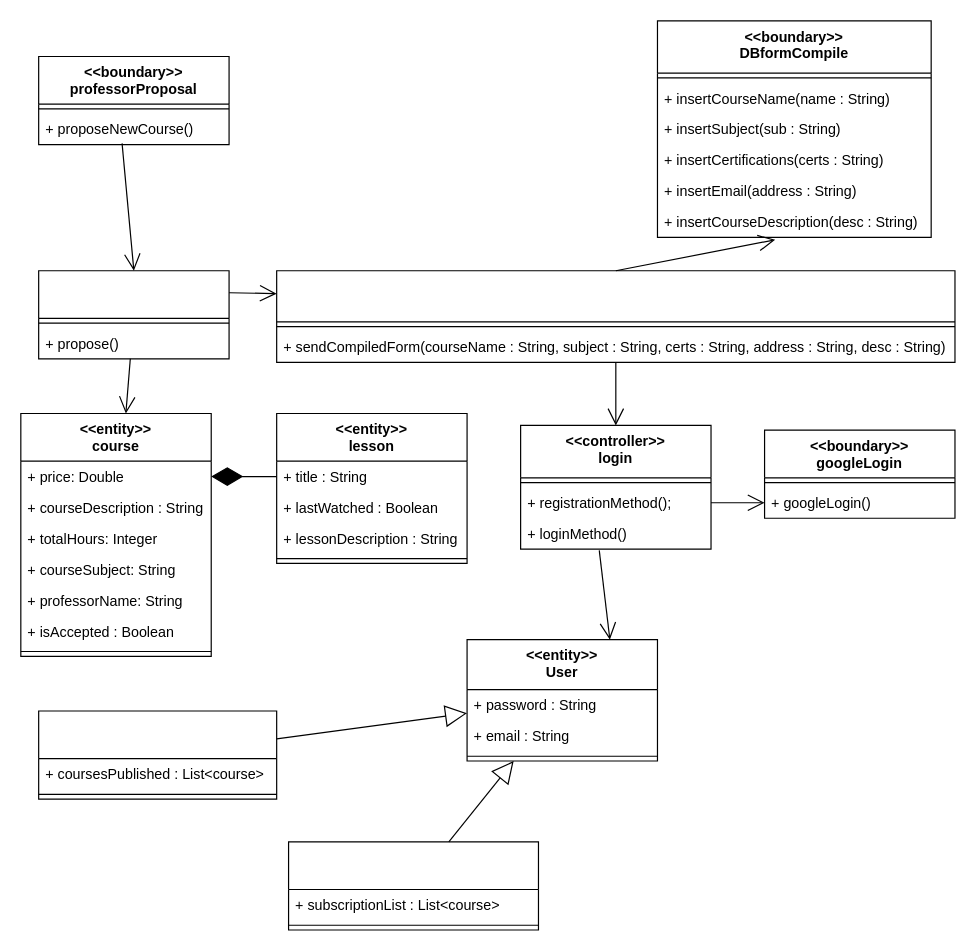
Image size: 976x951. Some labels were removed from this diagram. The shapes that lost their labels are listed below. From the top down, each one's box as (x1, y1, x2, y2) in pixels, then its label:
(37, 270, 229, 359): <<controller>> courseProposal
(275, 270, 955, 362): <<controller>> formCompile
(37, 710, 277, 799): <<entity>> professor
(287, 841, 538, 930): <<entity>> customer
